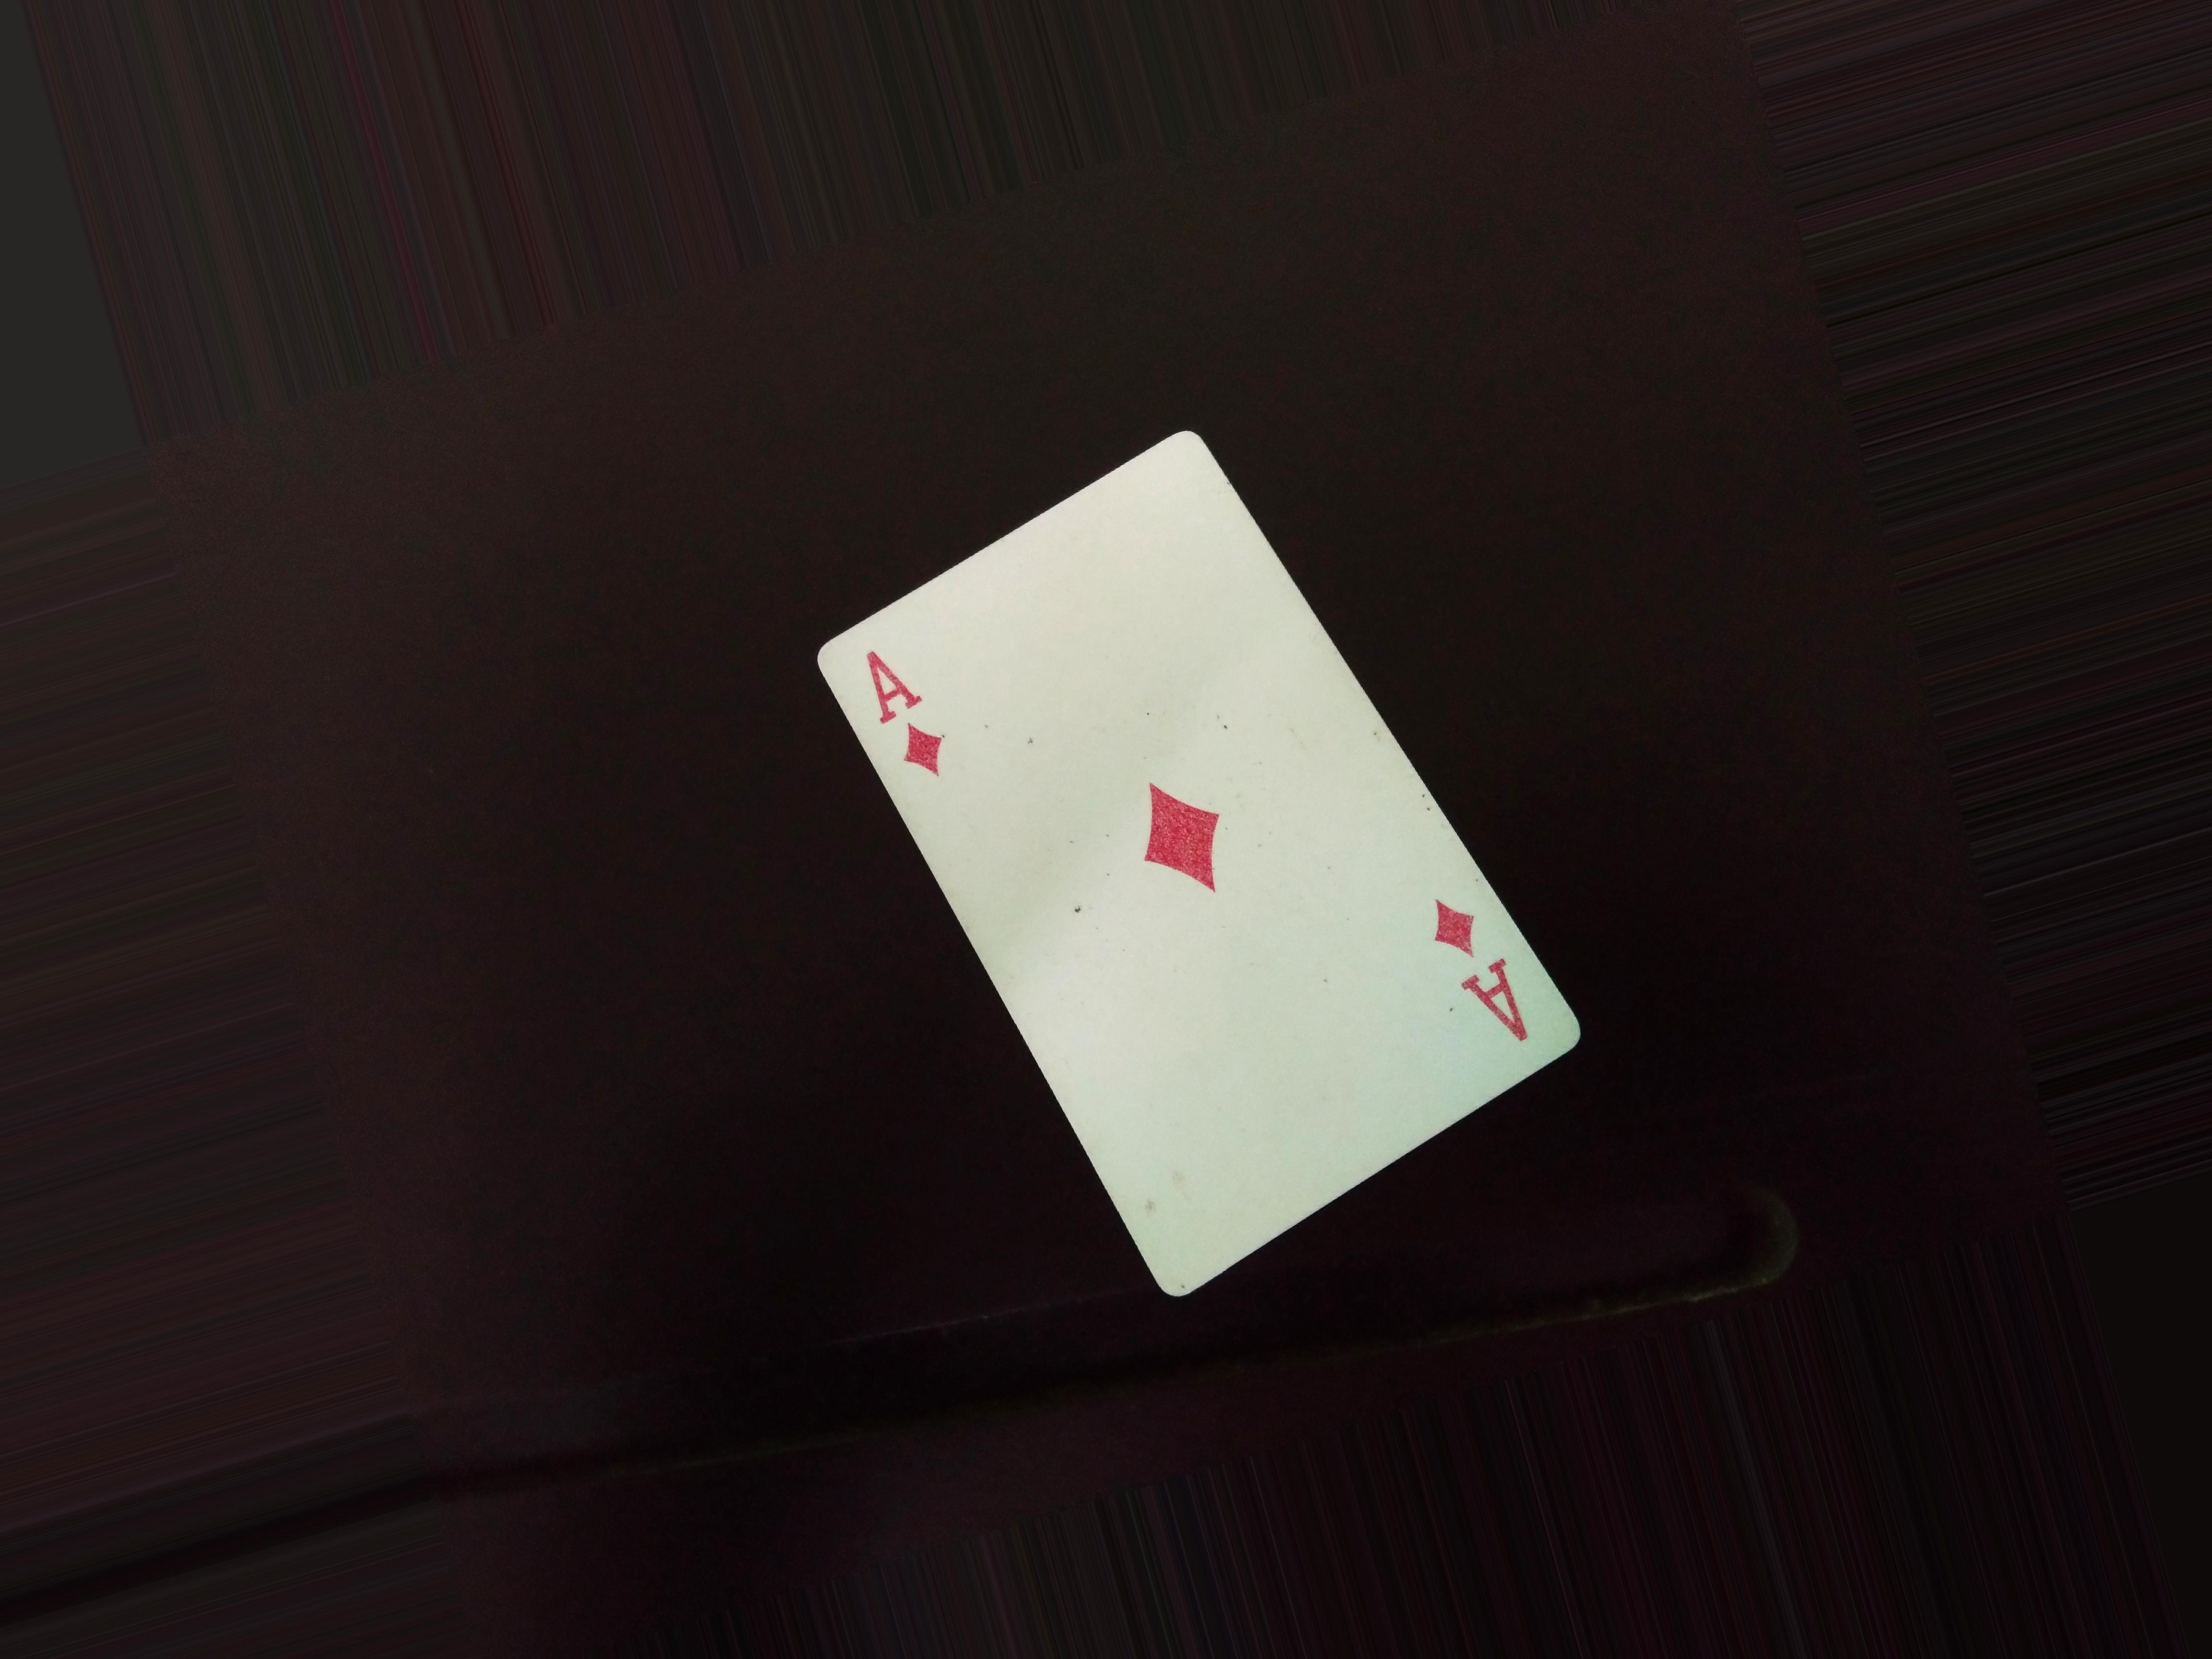AD: (1409, 875, 1534, 1068)
